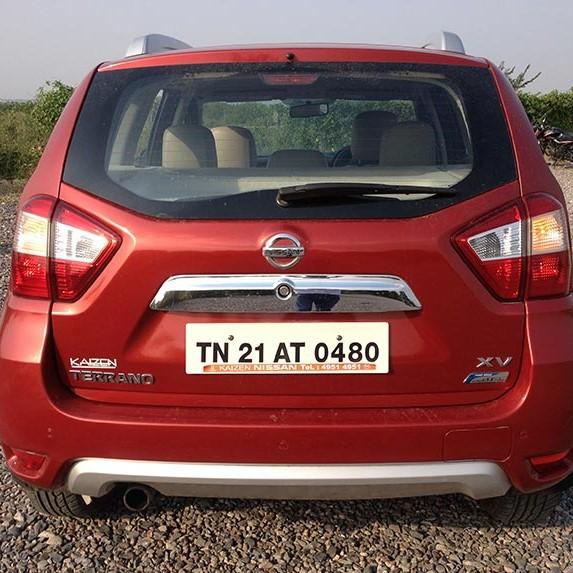License-Plate: (183, 322, 388, 378)
